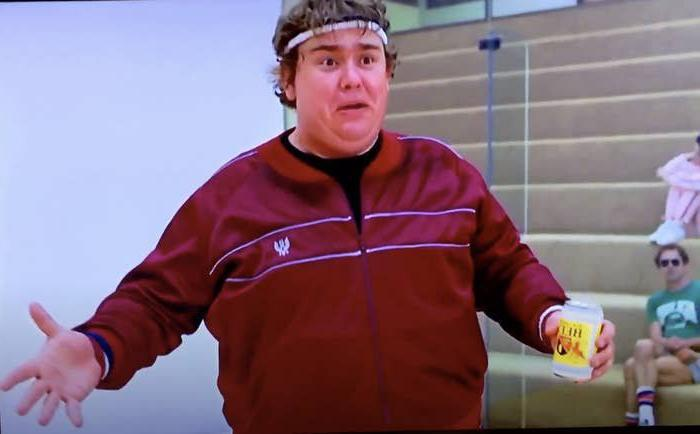Drunk: (300, 30, 390, 147)
